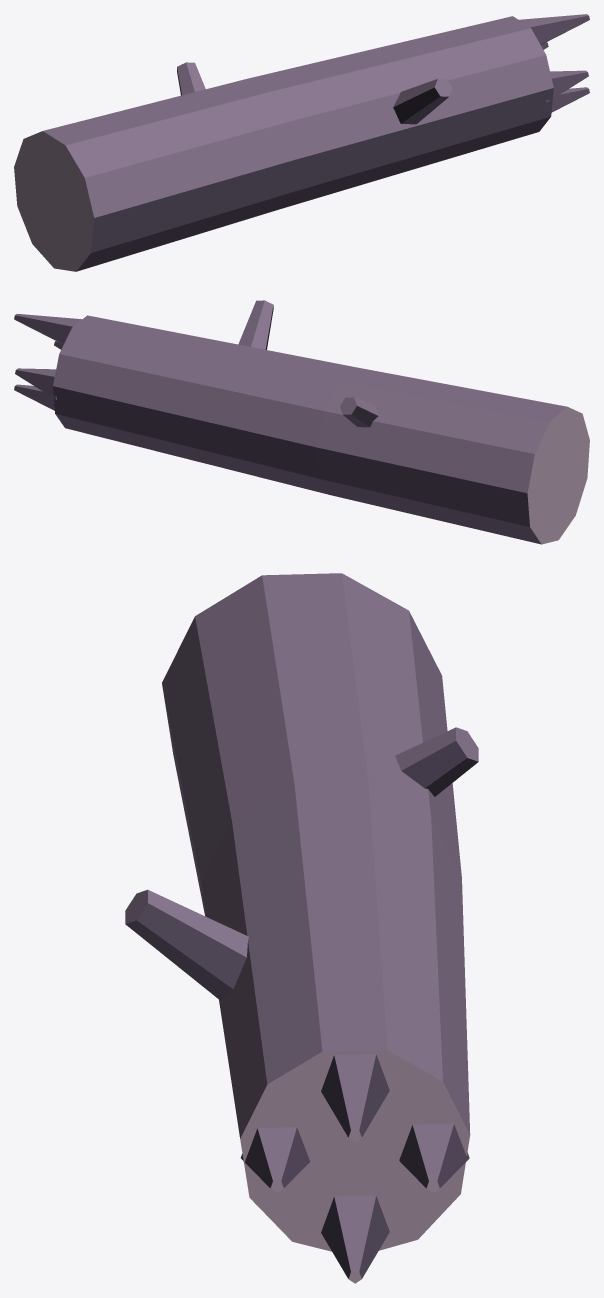
Rendered from TW_PROP_LOG_BROKEN_B_LOD0.glb.
3 views of the same model, one above another, from view 1: azimuth 30°, elevation 25°; view 2: azimuth 150°, elevation 25°; view 3: azimuth 270°, elevation 25° (orthographic). The views are drawn at different scales.
Parts seen in each view (by area): view 1: TW_PROP_LOG_BROKEN_B_LOD0; view 2: TW_PROP_LOG_BROKEN_B_LOD0; view 3: TW_PROP_LOG_BROKEN_B_LOD0.
Boxes of the visible parts, x1=… form: TW_PROP_LOG_BROKEN_B_LOD0: x1=14, y1=14, x2=589, y2=271; TW_PROP_LOG_BROKEN_B_LOD0: x1=14, y1=300, x2=589, y2=544; TW_PROP_LOG_BROKEN_B_LOD0: x1=125, y1=573, x2=478, y2=1283.
Size of the model in its own units: 2.09 by 0.4873 by 0.5983.
1 material, 1 textured.
